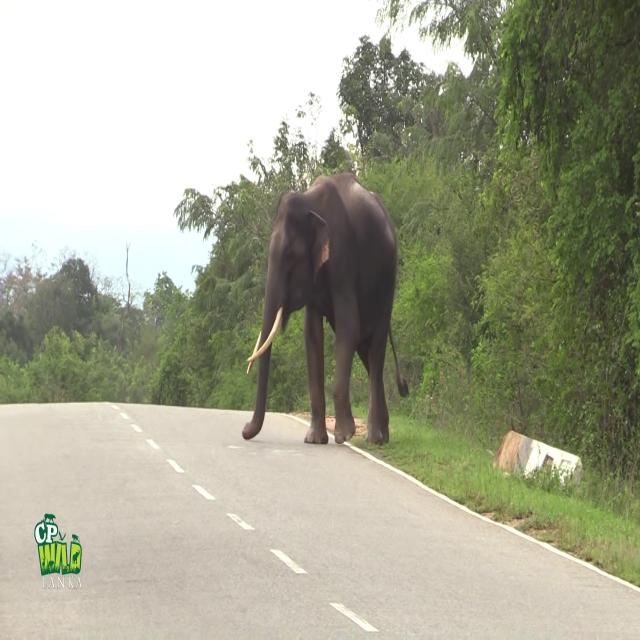Elephant: (242, 171, 409, 446)
